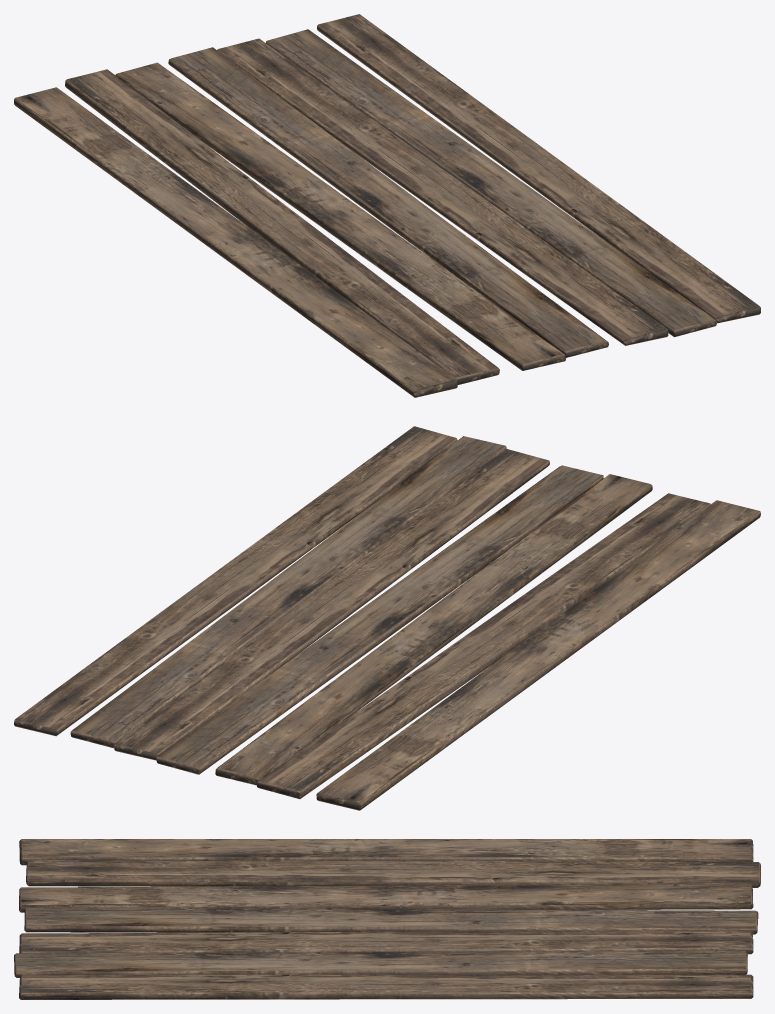
Rendered from Wooden_Planks.fbx.
3 views of the same model, one above another, from view 1: azimuth 30°, elevation 25°; view 2: azimuth 150°, elevation 25°; view 3: azimuth 270°, elevation 25° (orthographic). The views are drawn at different scales.
Visible parts, largest first — view 1: Cube.003; view 2: Cube.003; view 3: Cube.003.
Part boxes in pixels (box(x1,y1,x2,y2)): Cube.003: box(14, 14, 760, 397); Cube.003: box(14, 426, 760, 810); Cube.003: box(14, 839, 760, 999).
Bounding box in the file's own units: 230 × 7.41 × 468.
